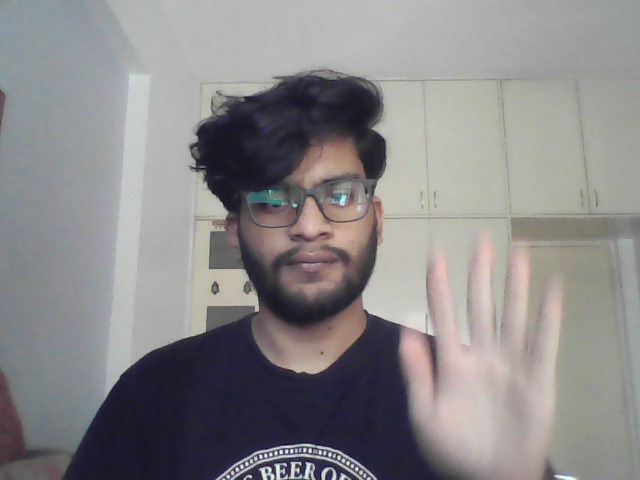Goodbye: (391, 237, 569, 480)
